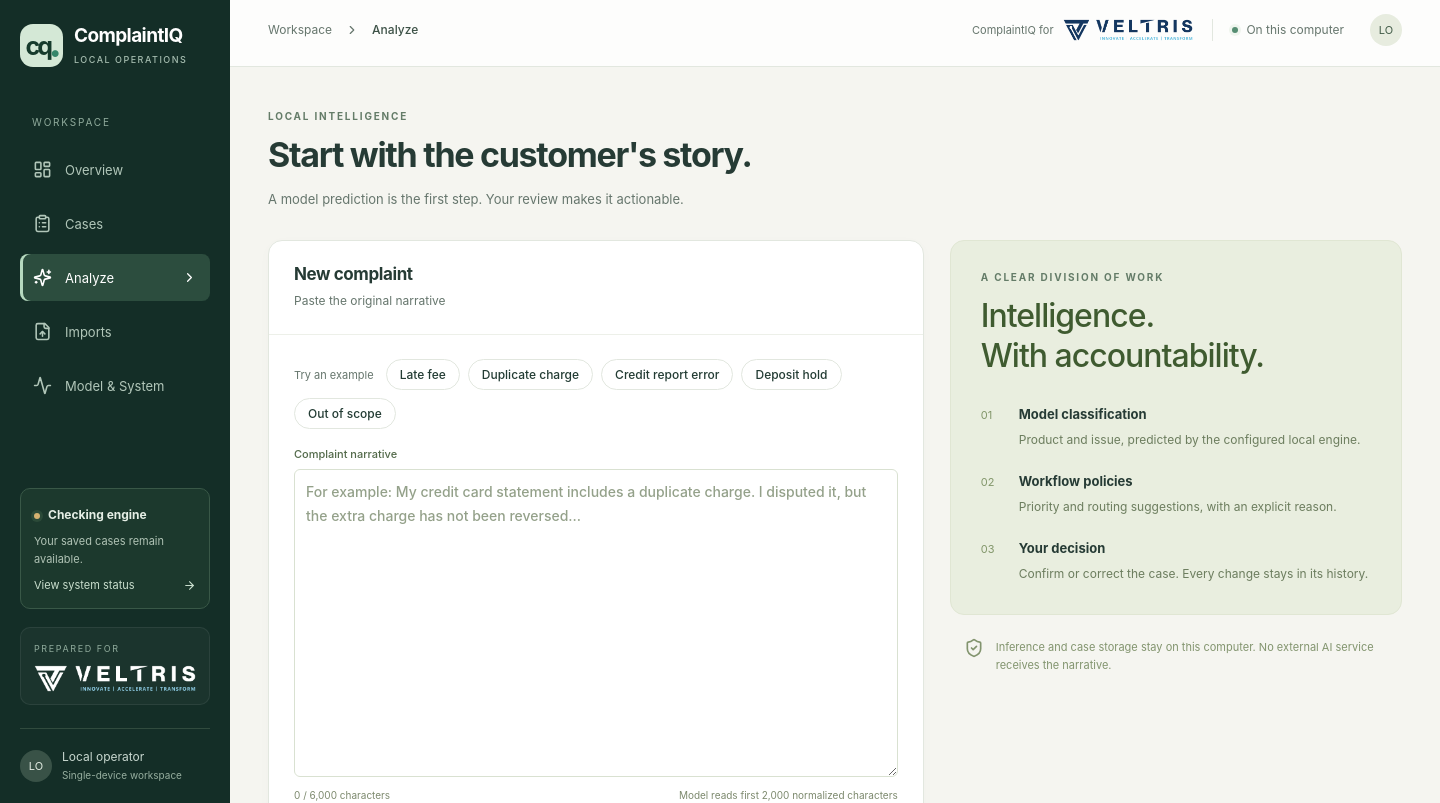
Test case: fills the narrative from an example complaint
Click the button "Late fee" at (423, 374), box x1=386 y1=359 x2=460 y2=390
(page scrolled)
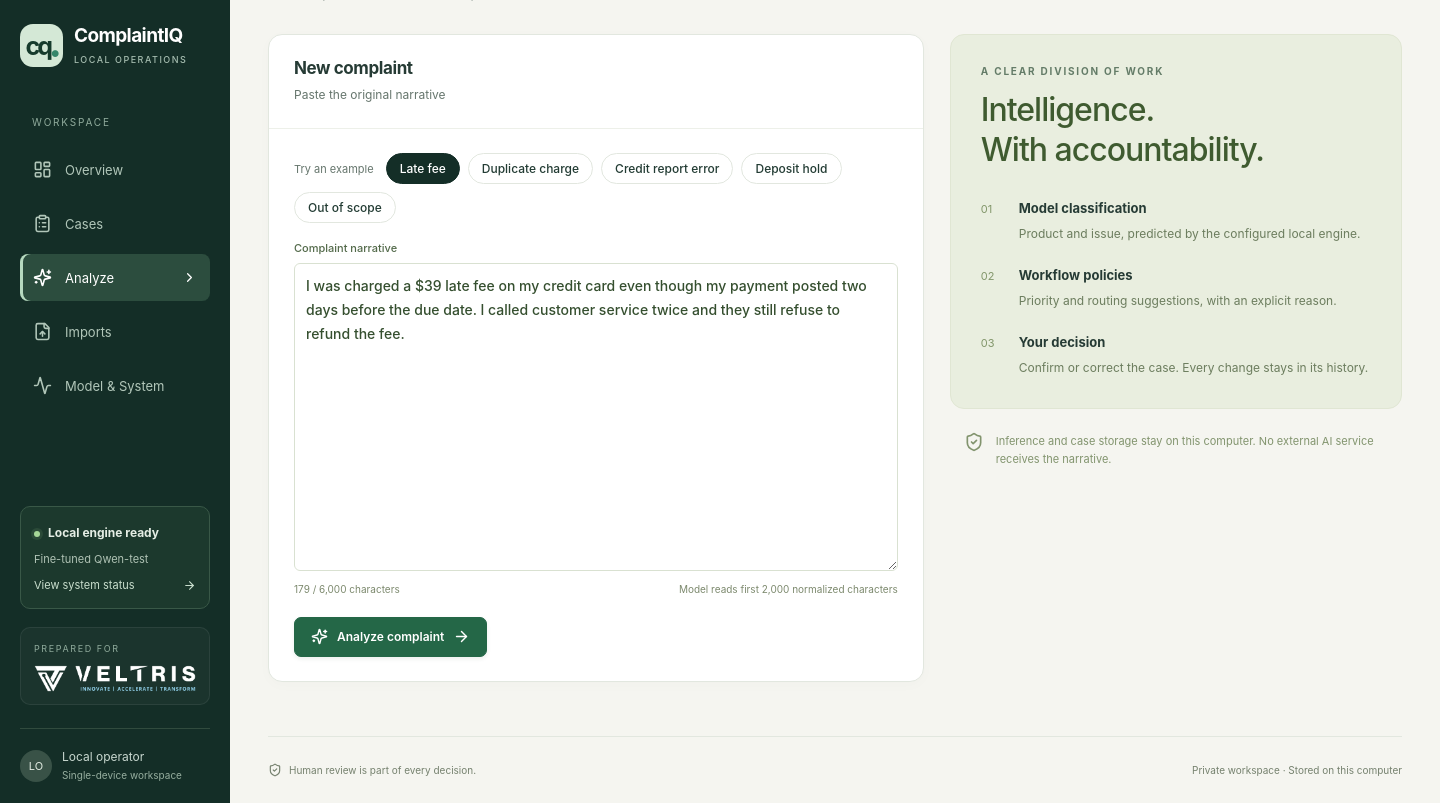
Check: the button "Analyze complaint" is enabled, box x1=294 y1=617 x2=487 y2=657
